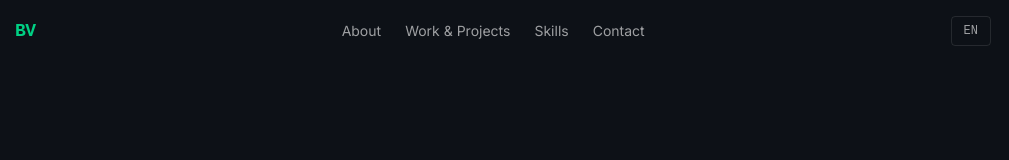
Navbar › при переключении языка ссылки обновляются
Click the button with aria-label "Toggle language" at x=971, y=31, box [951, 16, 991, 46]
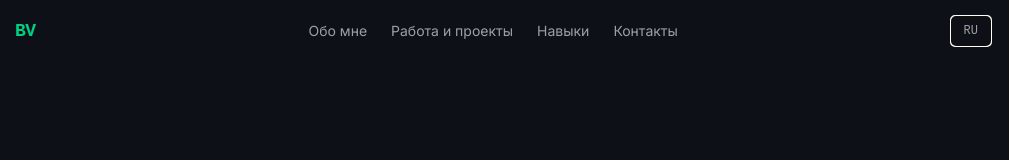
Check: the link "Обо мне" is shown, box [308, 22, 367, 39]
Check: the link "Работа и проекты" is shown, box [391, 22, 513, 39]
